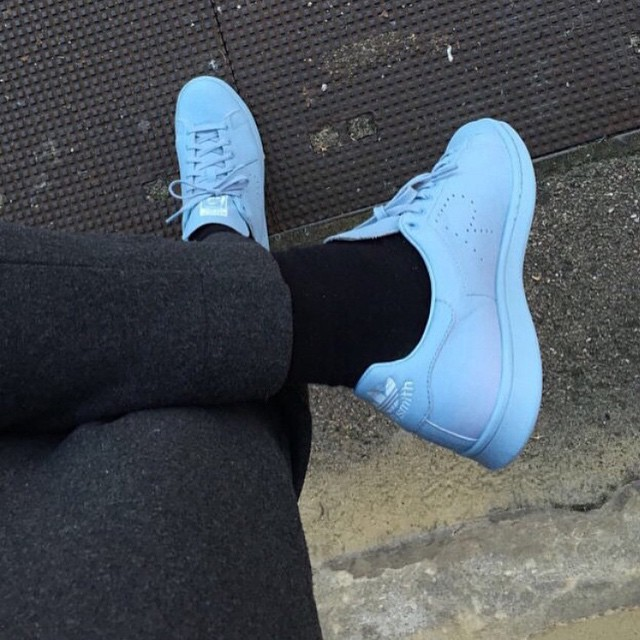sneaker: (289, 101, 570, 483), (145, 63, 286, 271)
